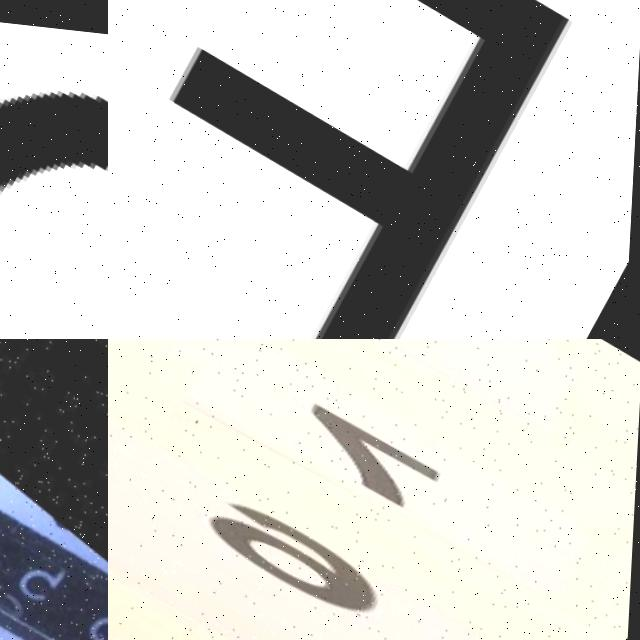5: (11, 530, 79, 605), (82, 572, 108, 640)
6: (180, 465, 413, 634)
7: (267, 369, 486, 535)
F: (136, 0, 640, 339)
Q: (0, 0, 108, 339)
